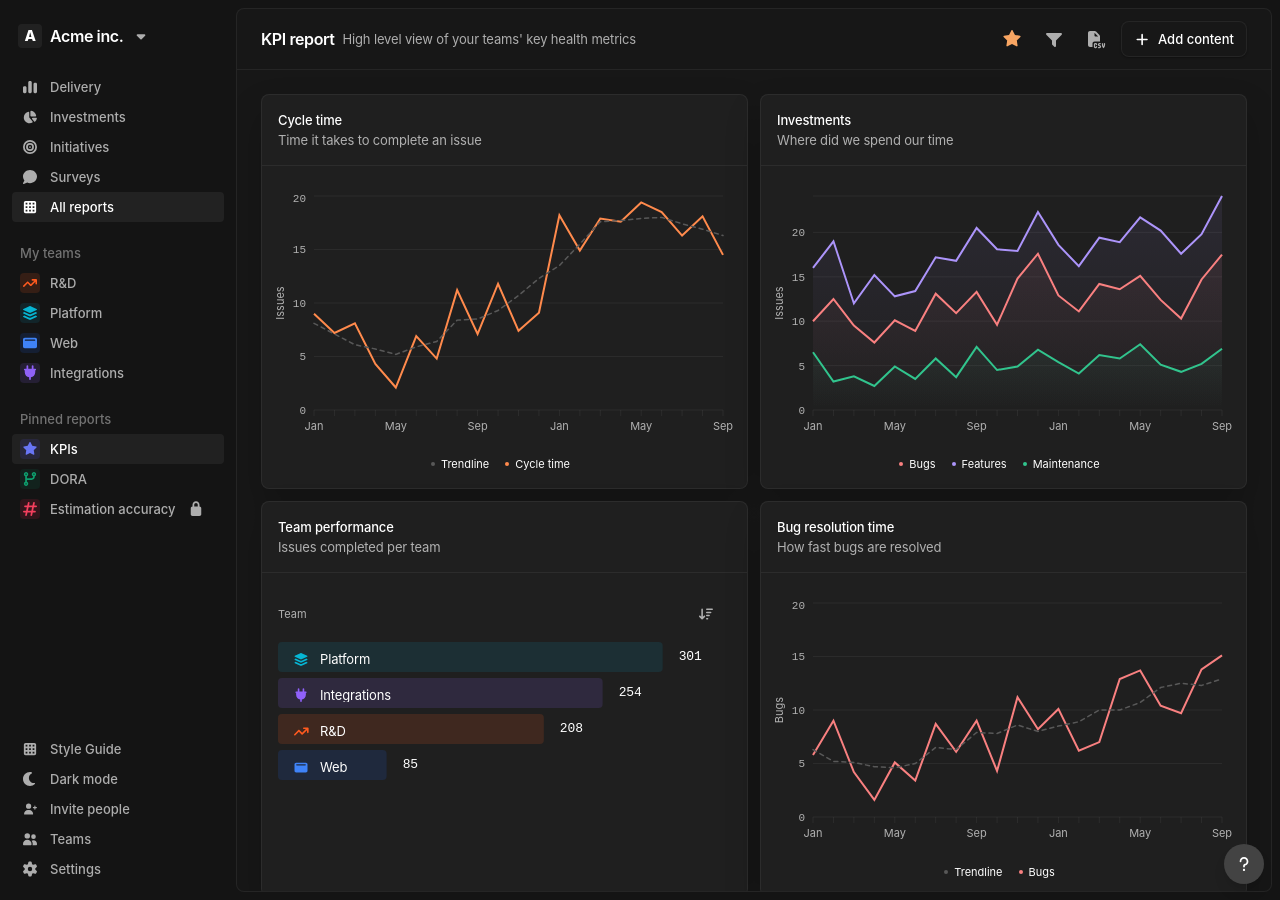
Scenario: surveys results page › toggles the KPI report pin state with matching toast feedback
Step 1. Click the button named "pin report" → (1012, 39), box top-left (995, 22), bottom-right (1029, 56)
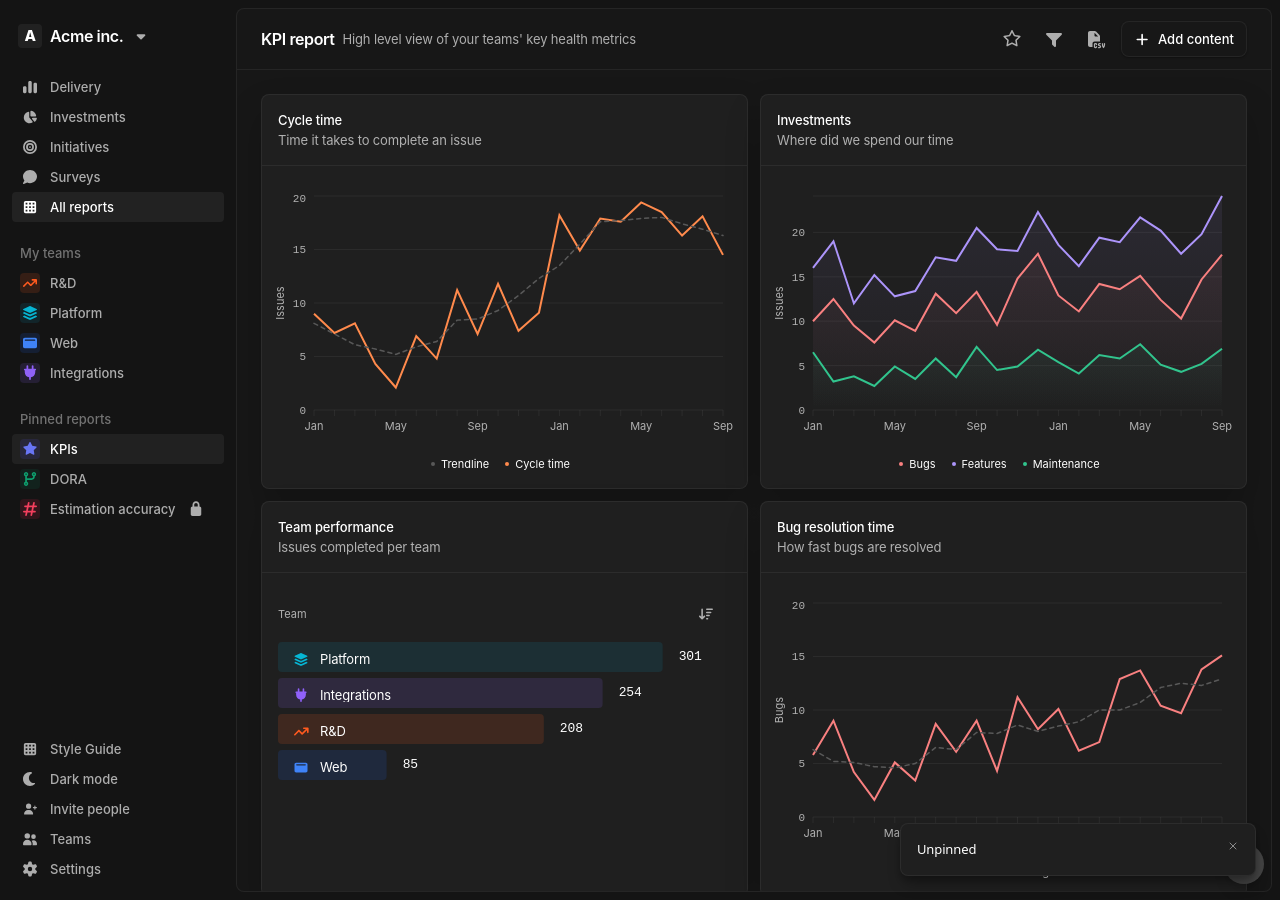
Now the text "Unpinned" is shown, box top-left (917, 840), bottom-right (976, 858)
Step 2. Click the button named "pin report" → (1012, 39), box top-left (995, 22), bottom-right (1029, 56)
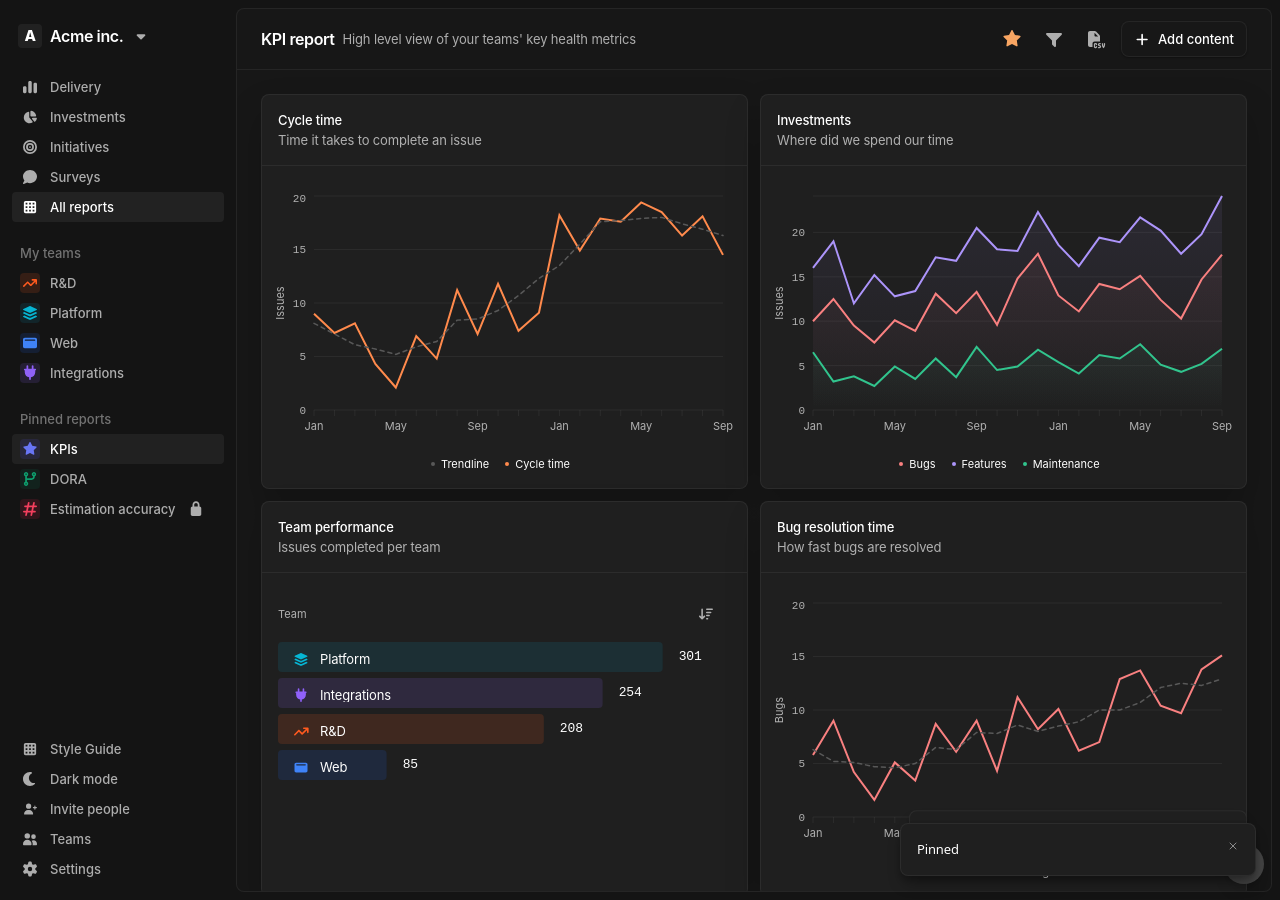
Now the text "Pinned" is shown, box top-left (917, 840), bottom-right (959, 858)
